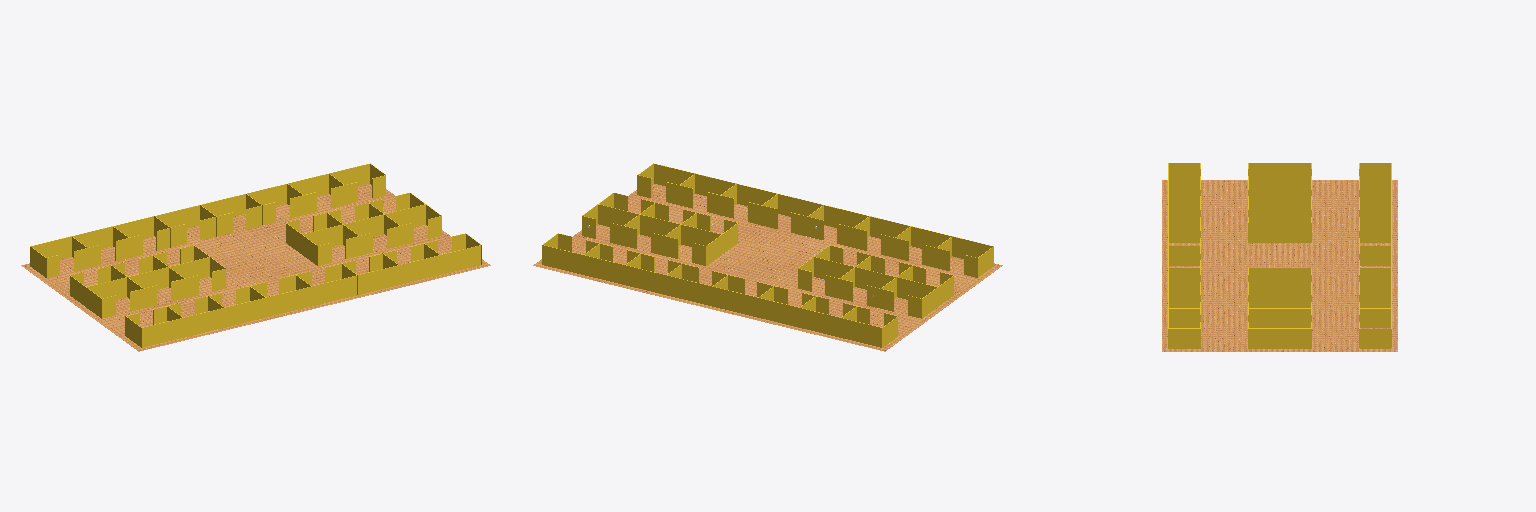
3 views of the same model, side by side, from view 1: azimuth 30°, elevation 25°; view 2: azimuth 150°, elevation 25°; view 3: azimuth 270°, elevation 25° (orthographic).
Visible parts, largest first — view 1: Floor, down_side_walls pCube22, up_side_walls pCube16, middle middle_Left pCube31, middle_Right middle pCube32, middle middle_Left pCube60, pCube27 middle_Right middle, up_side_walls Door_space pCube55, up_side_walls Door_space pCube55 pCube58, up_side_walls Door_space pCube55 pCube59, up_side_walls Door_space pCube34; view 2: Floor, up_side_walls pCube16, down_side_walls pCube22, middle middle_Left pCube31, middle_Right middle pCube32, pCube27 middle_Right middle, middle middle_Left pCube60, down_side_walls Door_space1 pCube57, down_side_walls Door_space1 pCube56; view 3: Floor, middle_Right middle pCube30, middle middle_Left pCube25, middle_Right middle pCube29, pCube27 middle_Right middle, middle_Right middle pCube28, middle pCube23 middle_Left, middle middle_Left pCube24, middle middle_Left pCube60, down_side_walls pCube19, pCube9 up_side_walls, up_side_walls pCube10 (+15 smaller).
Part boxes in pixels (x1,y1,x2,y2): Floor: (21, 184, 490, 351); down_side_walls pCube22: (142, 245, 480, 347); up_side_walls pCube16: (31, 164, 369, 258); middle middle_Left pCube31: (87, 257, 209, 299); middle_Right middle pCube32: (302, 204, 425, 246); middle middle_Left pCube60: (70, 275, 101, 318); pCube27 middle_Right middle: (286, 223, 317, 265); up_side_walls Door_space pCube55: (115, 235, 142, 260); up_side_walls Door_space pCube55 pCube58: (331, 182, 357, 208); up_side_walls Door_space pCube55 pCube59: (290, 192, 316, 218); up_side_walls Door_space pCube34: (74, 245, 100, 270); Floor: (533, 184, 1002, 351); up_side_walls pCube16: (542, 245, 881, 347); down_side_walls pCube22: (654, 164, 992, 258); middle middle_Left pCube31: (814, 257, 936, 299); middle_Right middle pCube32: (598, 204, 721, 246); pCube27 middle_Right middle: (706, 223, 737, 265); middle middle_Left pCube60: (922, 276, 953, 318); down_side_walls Door_space1 pCube57: (666, 182, 692, 208); down_side_walls Door_space1 pCube56: (707, 192, 733, 218); Floor: (1162, 180, 1397, 351); middle_Right middle pCube30: (1248, 328, 1311, 348); middle middle_Left pCube25: (1248, 223, 1311, 242); middle_Right middle pCube29: (1248, 308, 1311, 327); pCube27 middle_Right middle: (1249, 268, 1310, 287); middle_Right middle pCube28: (1249, 288, 1310, 307); middle pCube23 middle_Left: (1249, 183, 1310, 202); middle middle_Left pCube24: (1249, 203, 1310, 222); middle middle_Left pCube60: (1249, 163, 1310, 182); down_side_walls pCube19: (1168, 328, 1200, 348); pCube9 up_side_walls: (1360, 183, 1390, 202); up_side_walls pCube10: (1360, 203, 1390, 222).
Size of the model in its own units: 76.79 by 4.28 by 44.5.
Materials: 3 (1 with a texture image).